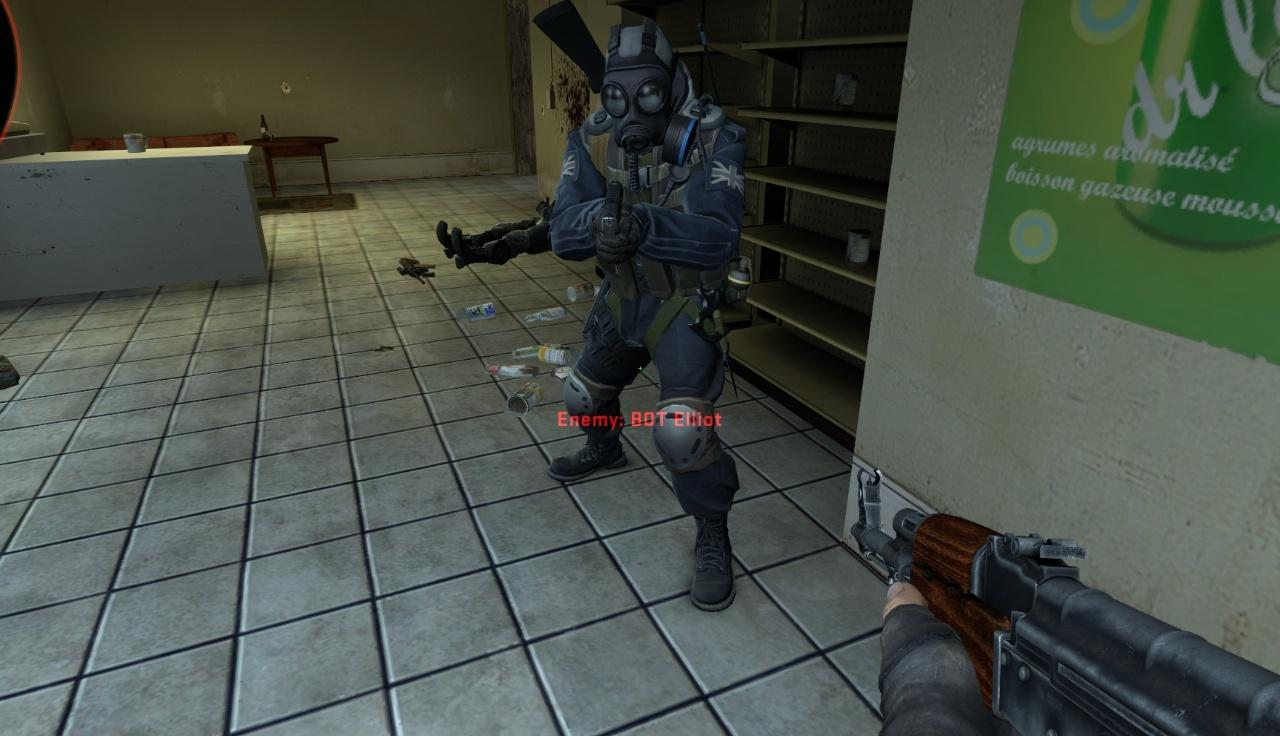ct: (549, 24, 747, 610)
cthead: (602, 24, 677, 152)
rifle: (851, 468, 1280, 736)
